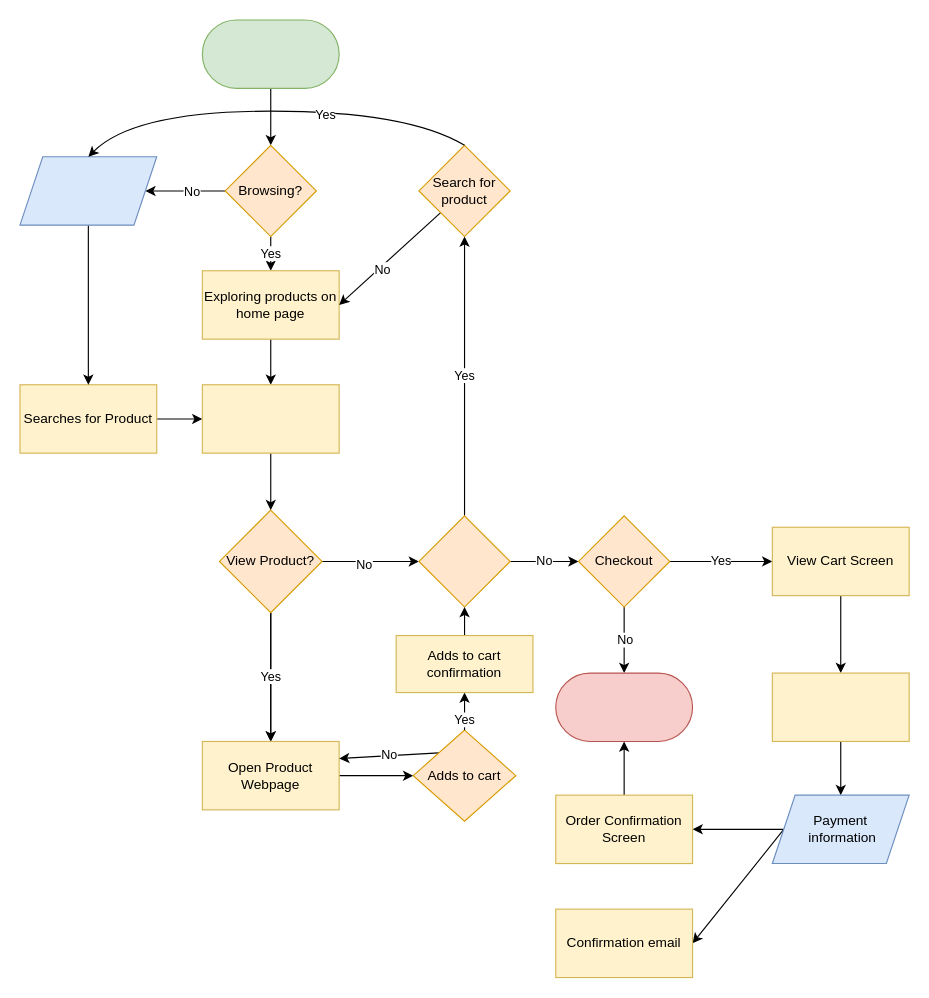
This 929x998 diagram has some shape labels left out. The shapes that lost their labels are listed below. From the top down, each one's centre as x and y in pixels, then its label:
At (x=270, y=53): "User Enters Website".
At (x=88, y=190): "Search input".
At (x=270, y=418): "User looks over products".
At (x=464, y=561): "Continue Shopping".
At (x=624, y=706): "Exit Website".
At (x=840, y=706): "View Payment Screen".
